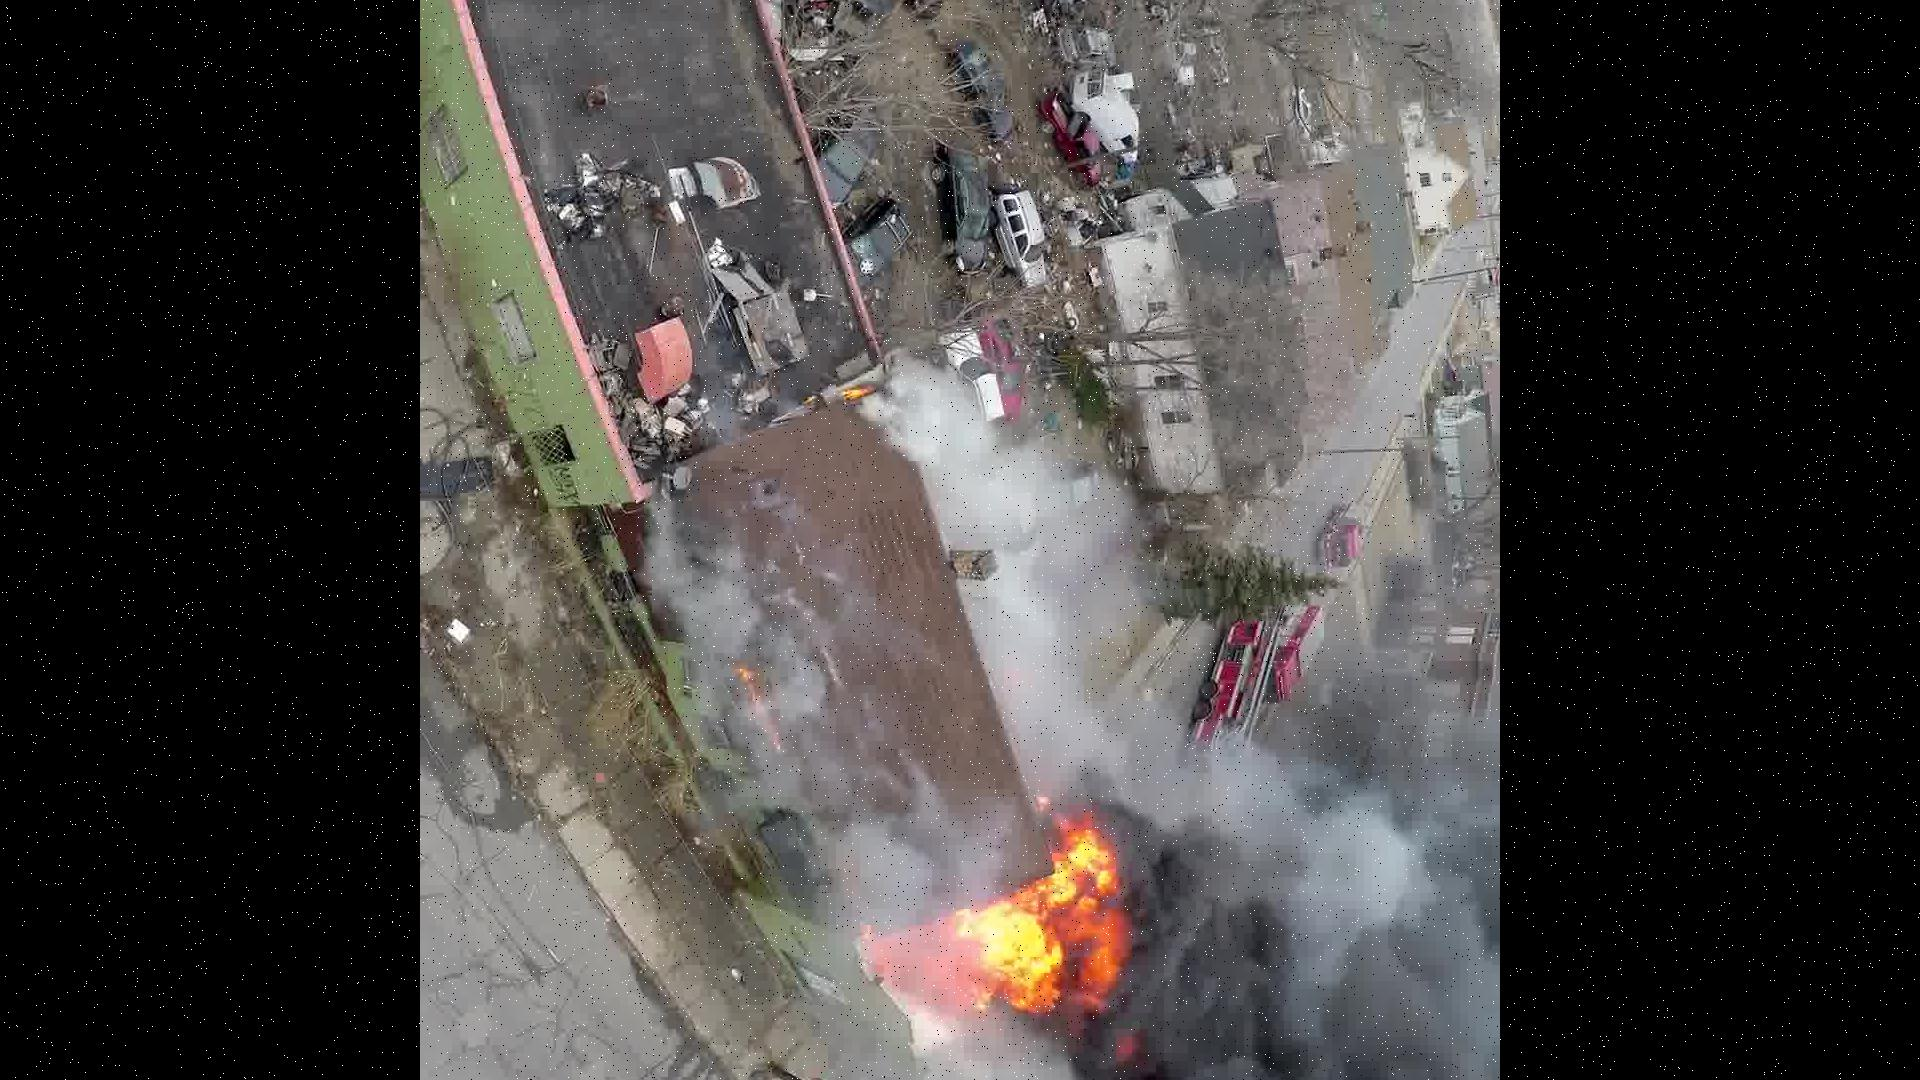fire: (872, 818, 1172, 1080)
